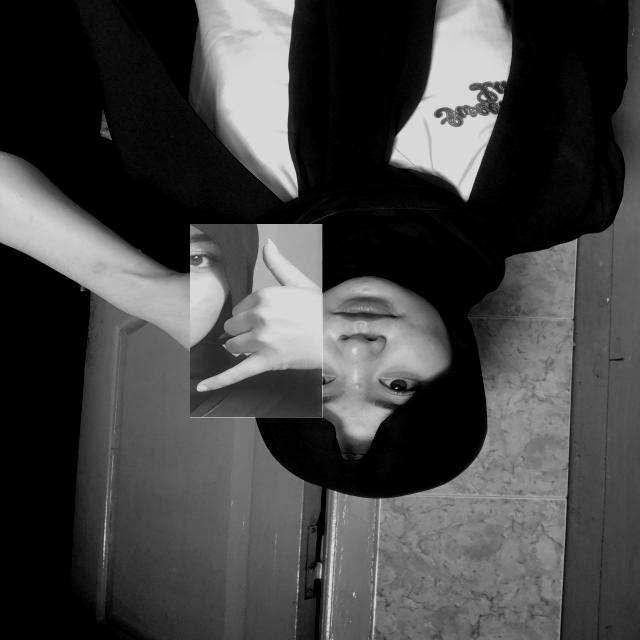telpon: (190, 224, 323, 418)
